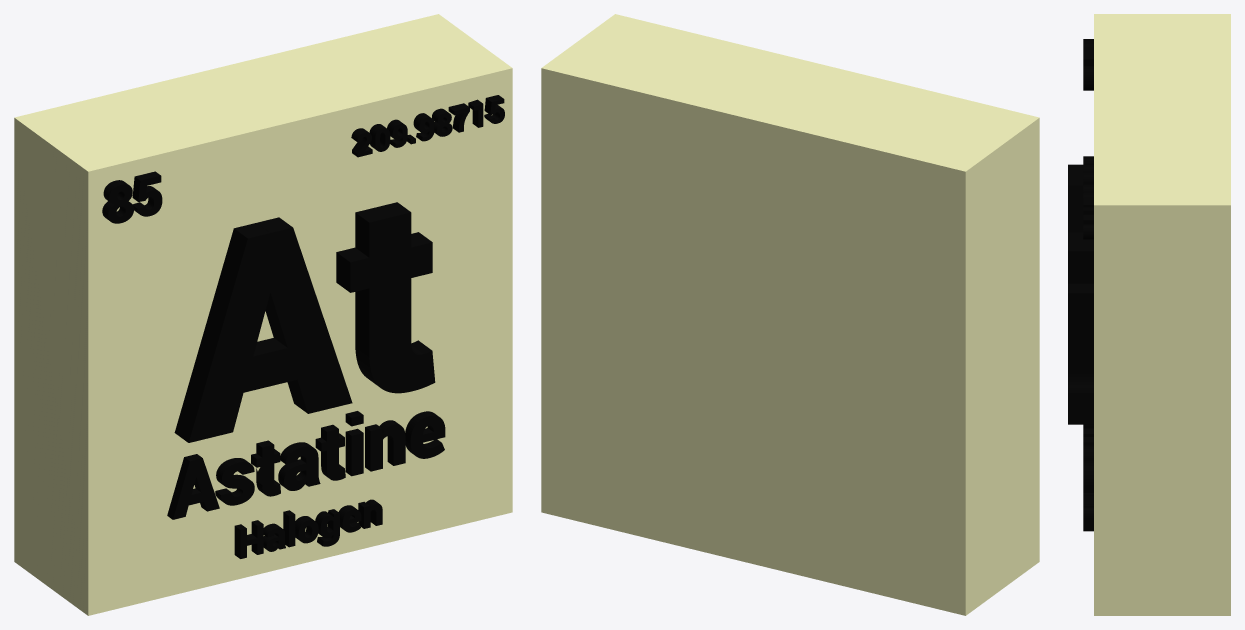
3 views of the same model, side by side, from view 1: azimuth 30°, elevation 25°; view 2: azimuth 150°, elevation 25°; view 3: azimuth 270°, elevation 25° (orthographic). The views are drawn at different scales.
Parts seen in each view (by area): view 1: Cube, Text, Text.001, Text.002, Text.004, Text.003; view 2: Cube; view 3: Cube, Text, Text.004, Text.001, Text.003, Text.002.
Boxes of the visible parts, x1,y1,x2,y2 form: Cube: (14,14,512,615); Text: (174,202,435,442); Text.001: (167,411,445,519); Text.002: (234,499,382,558); Text.004: (351,95,504,157); Text.003: (102,171,162,223); Cube: (541,14,1039,615); Cube: (1094,14,1230,615); Text: (1068,164,1093,424); Text.004: (1083,156,1093,239); Text.001: (1083,424,1093,504); Text.003: (1083,39,1093,90); Text.002: (1083,504,1093,531).
Size of the model in its own units: 178 by 178 by 63.95.
